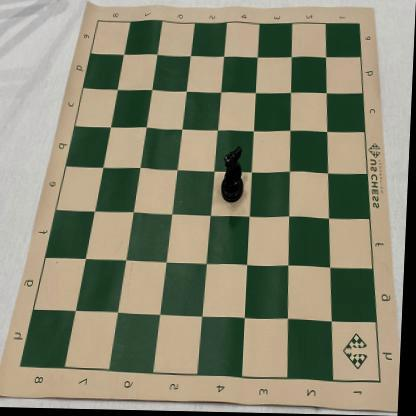black-knight: (223, 147, 247, 204)
